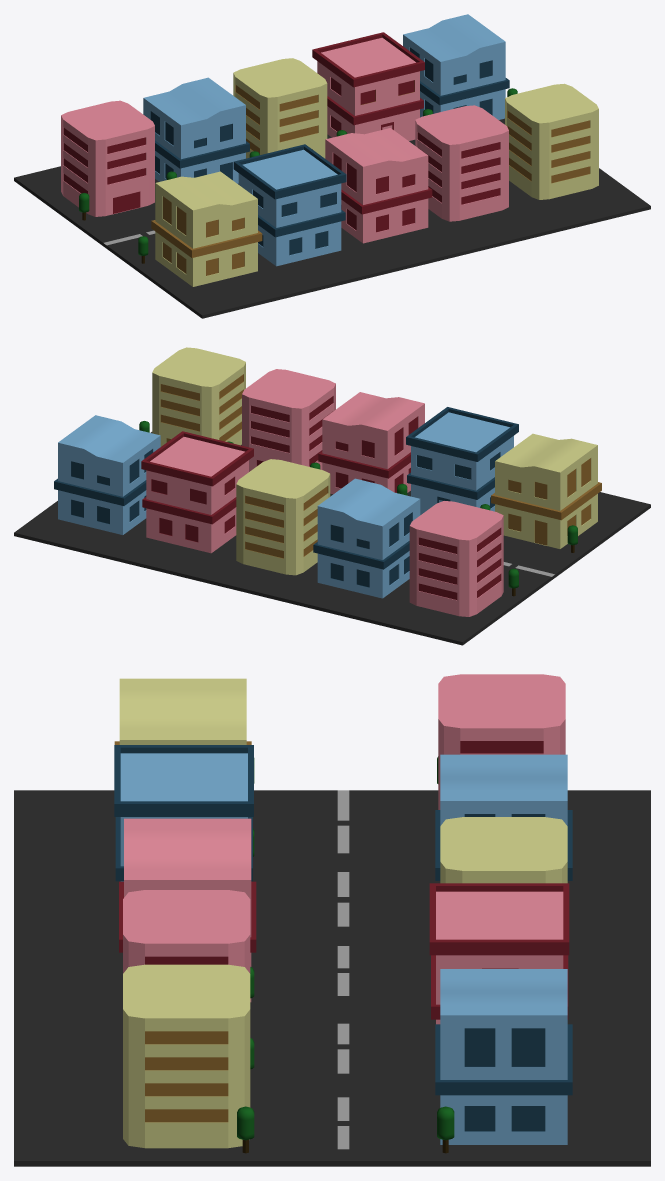
The model's file is cityview_M_v1_Carrie.FBX.
3 renders of one model, top to bottom at view 1: azimuth 30°, elevation 25°; view 2: azimuth 150°, elevation 25°; view 3: azimuth 270°, elevation 25°, orthographic. The views are drawn at different scales.
Parts seen in each view (by area): view 1: ground, House010, House007, House009, House005, House006, House1, House008, House004, House2, House3; view 2: ground, House1, House010, House004, House009, House2, House3, House007, House006, House005, House008; view 3: ground, House005, House2, House1, House007, House009, House006, House008, House004, House010, House3.
Boxes of the visible parts, x1,y1,x2,y2 form: ground: (14,118,650,318); House010: (151,171,262,286); House007: (233,144,346,266); House009: (61,100,154,216); House005: (505,83,598,199); House006: (325,128,432,243); House1: (312,32,424,140); House008: (415,105,508,221); House004: (143,77,249,183); House2: (403,14,509,119); House3: (233,58,327,158); ground: (14,432,650,645); House1: (141,431,253,553); House010: (491,433,601,548); House004: (313,478,420,598); House009: (409,501,503,616); House2: (54,415,160,534); House3: (236,459,330,575); House007: (406,407,518,514); House006: (318,392,424,494); House005: (152,347,245,446); House008: (242,369,335,471); ground: (14,790,650,1166); House005: (123,964,250,1148); House2: (435,969,572,1144); House1: (429,883,569,1024); House007: (114,745,253,881); House009: (438,674,565,809); House006: (119,818,256,1002); House008: (123,890,250,973); House004: (435,754,572,880); House010: (114,678,251,744); House3: (440,817,567,883).
Bounding box in the file's own units: 5512 × 964 × 4005.
